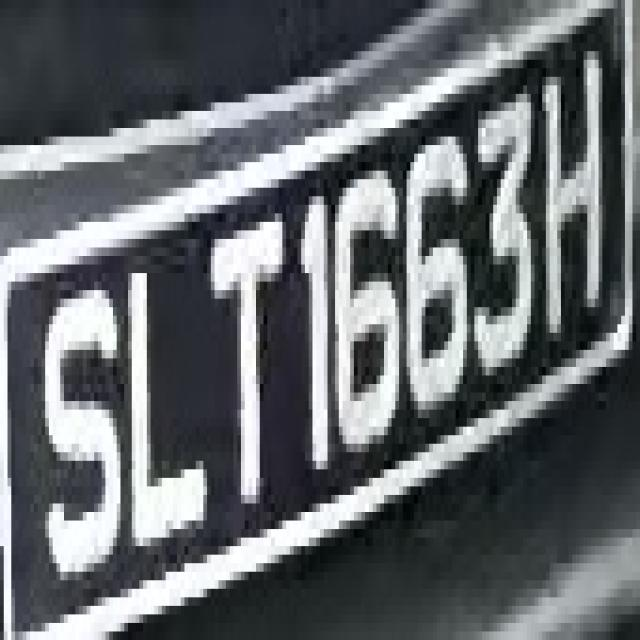1: (294, 171, 338, 512)
3: (471, 85, 542, 392)
6: (392, 111, 478, 452), (331, 154, 403, 460)
H: (538, 34, 610, 341)
L: (120, 248, 218, 554)
S: (30, 273, 124, 597)
T: (203, 196, 301, 538)
